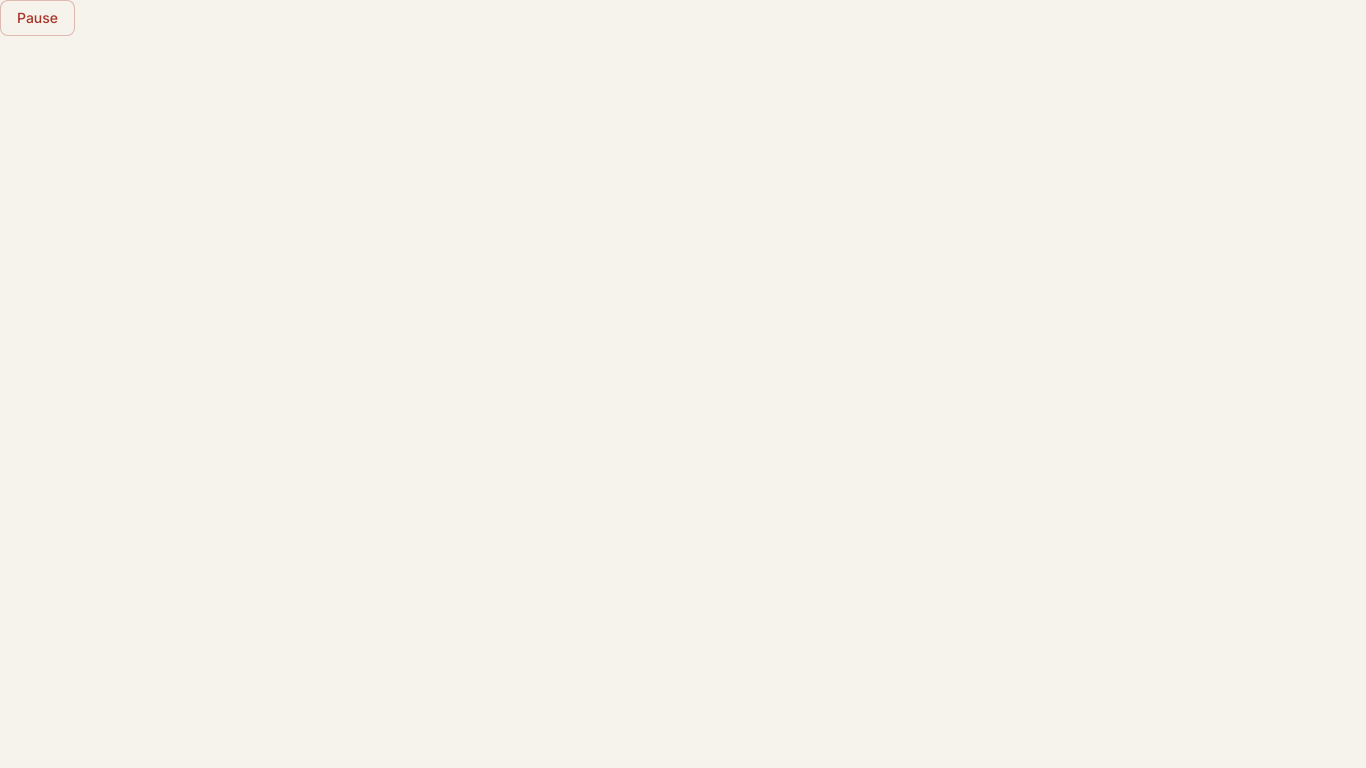
it: ConfirmDialog › stays open and explains a failure
The width and height of the screenshot is (1366, 768).
Click the button "Pause".
click(38, 18)  # box [0,0,75,36]
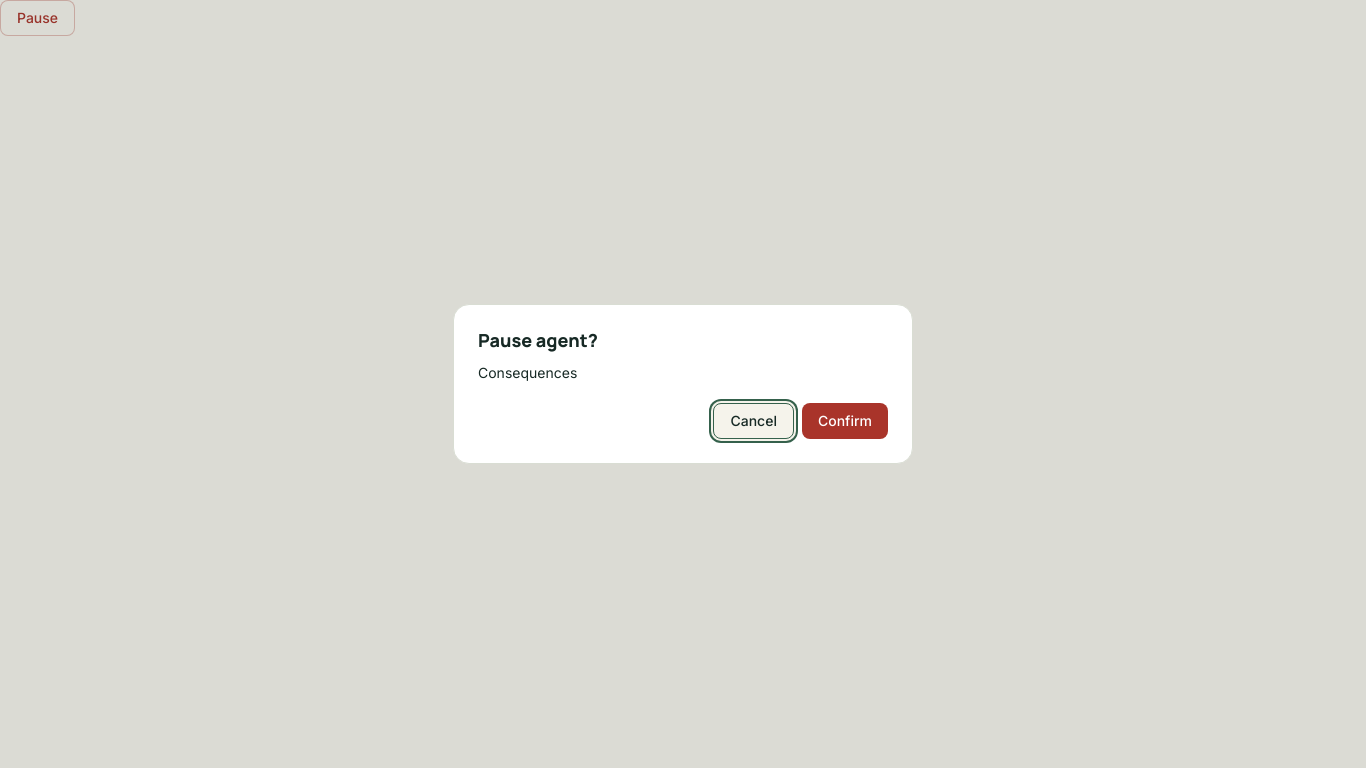
Click the button "Confirm".
click(845, 421)  # box [802,403,888,439]
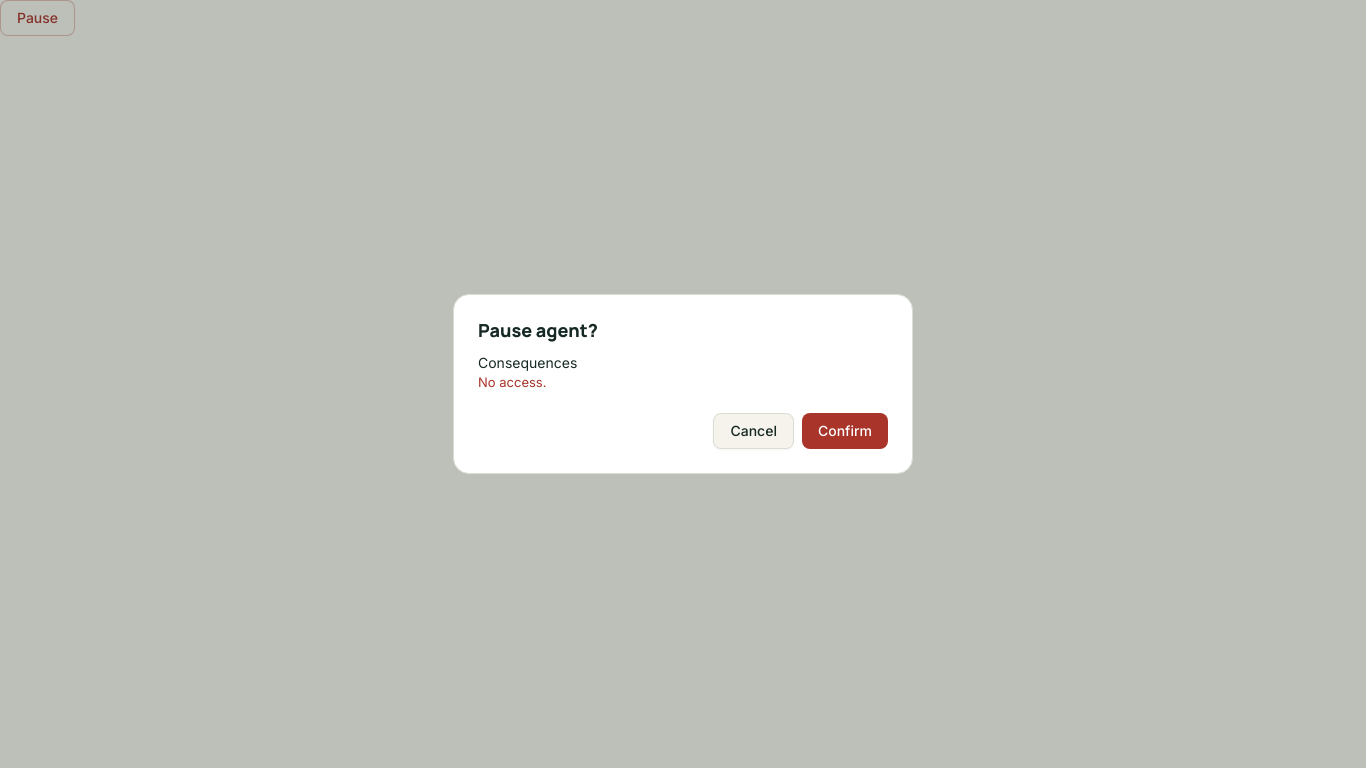
Check: the message reads "No access.", box [478,374,546,390]
